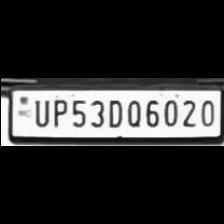0: (160, 97, 178, 127), (198, 97, 216, 127)
2: (178, 96, 196, 128)
3: (86, 96, 104, 128)
5: (66, 96, 86, 128)
6: (140, 96, 160, 127)
D: (104, 97, 122, 127)
P: (47, 97, 66, 127)
Q: (124, 97, 142, 127)
U: (29, 97, 48, 127)
